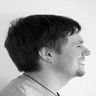ear: (35, 44, 57, 67)
